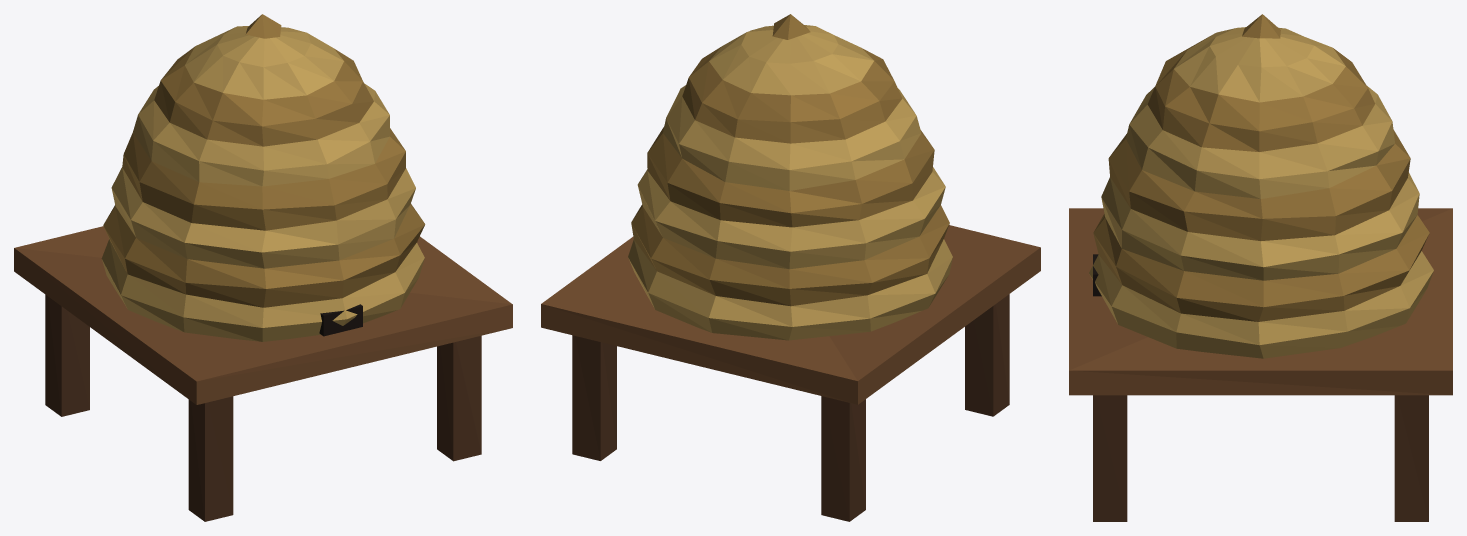
Rendered from ZB_obje_ari_kovani.glb.
The picture shows the model from 3 angles, left to right: view 1: azimuth 30°, elevation 25°; view 2: azimuth 150°, elevation 25°; view 3: azimuth 270°, elevation 25°; orthographic projection. The views are drawn at different scales.
Parts seen in each view (by area): view 1: ZB_obje_ari_kovani; view 2: ZB_obje_ari_kovani; view 3: ZB_obje_ari_kovani.
Boxes of the visible parts, left/top/right/bottom form: ZB_obje_ari_kovani: left=14, top=14, right=512, bottom=521; ZB_obje_ari_kovani: left=541, top=14, right=1040, bottom=521; ZB_obje_ari_kovani: left=1069, top=14, right=1452, bottom=521.
Size of the model in its own units: 0.56 by 0.703 by 0.56.
